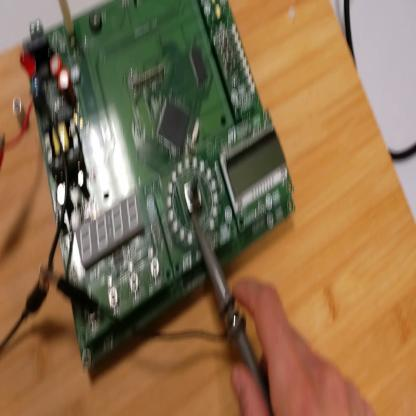hand: (226, 275, 371, 414)
low voltage board: (2, 1, 296, 371)
oscilloscope probe tip: (193, 224, 268, 416)
working area: (2, 2, 416, 413)
